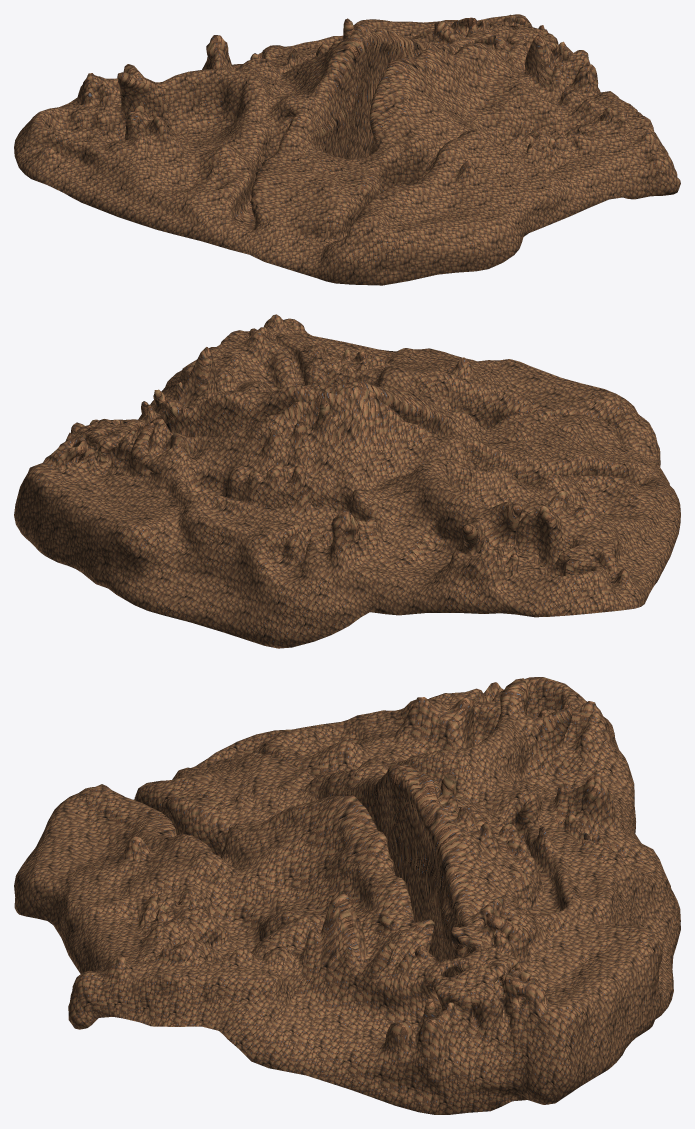
The model's file is Terrain.FBX.
The picture shows the model from 3 angles, top to bottom: view 1: azimuth 30°, elevation 25°; view 2: azimuth 150°, elevation 25°; view 3: azimuth 270°, elevation 25°; orthographic projection. The views are drawn at different scales.
Parts seen in each view (by area): view 1: Terrain_Low; view 2: Terrain_Low; view 3: Terrain_Low.
Boxes of the visible parts, x1,y1,x2,y2 form: Terrain_Low: [14, 14, 680, 285]; Terrain_Low: [14, 314, 680, 648]; Terrain_Low: [14, 677, 680, 1114].
Bounding box in the file's own units: 280 × 77.04 × 232.
1 material, 1 textured.
